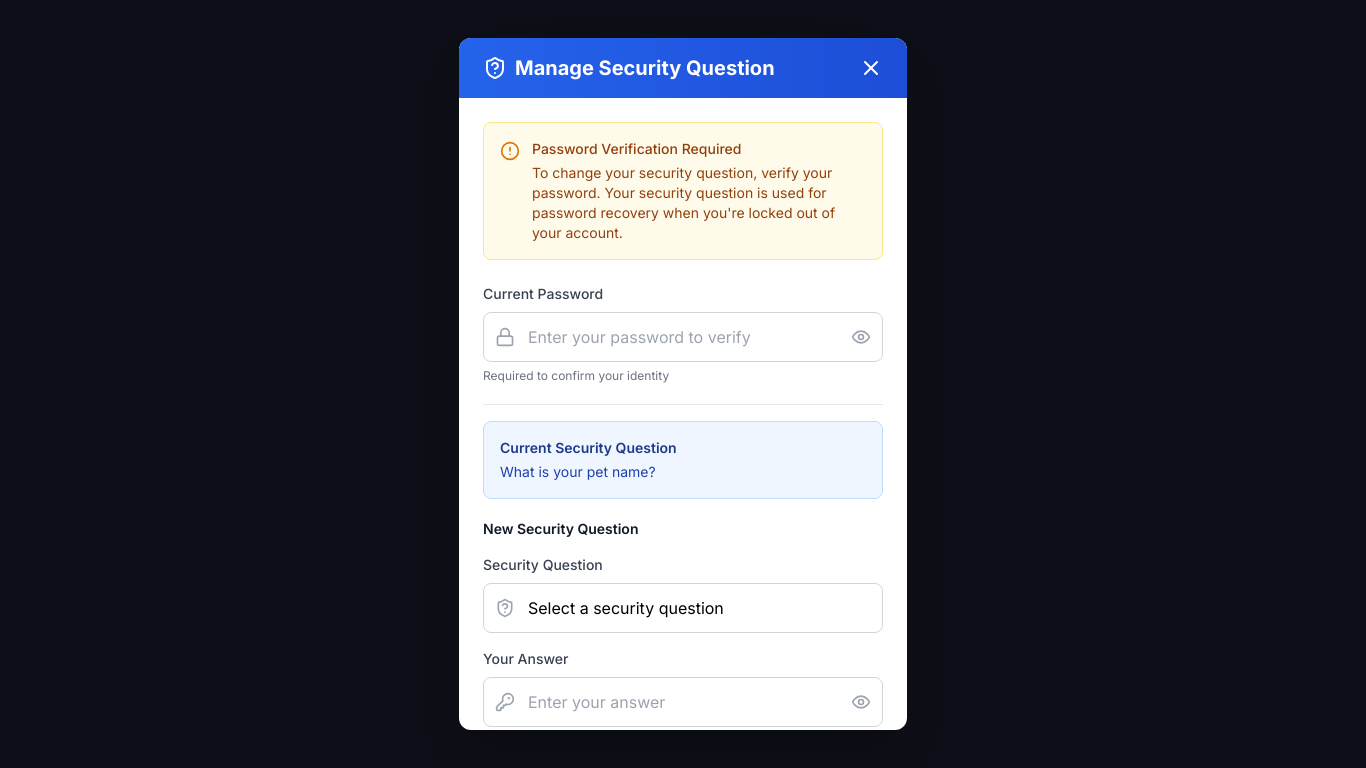
SecurityQuestionModal › shows mismatch error when answers differ
In the password field with placeholder "Enter your password to verify": x=683, y=337 top-left (483, 312), bottom-right (883, 362), type "password"
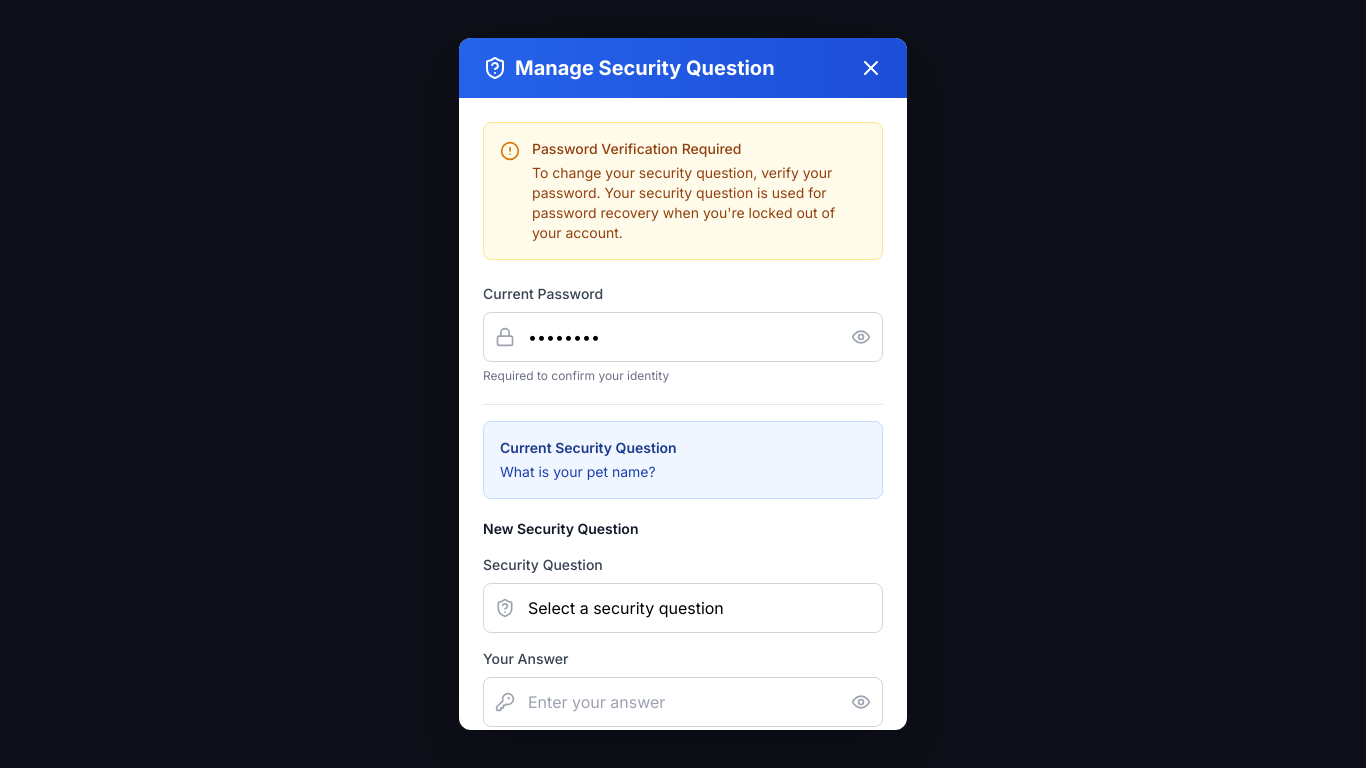
Select "What city were you born in?" in the dropdown: x=683, y=608 top-left (483, 583), bottom-right (883, 633)
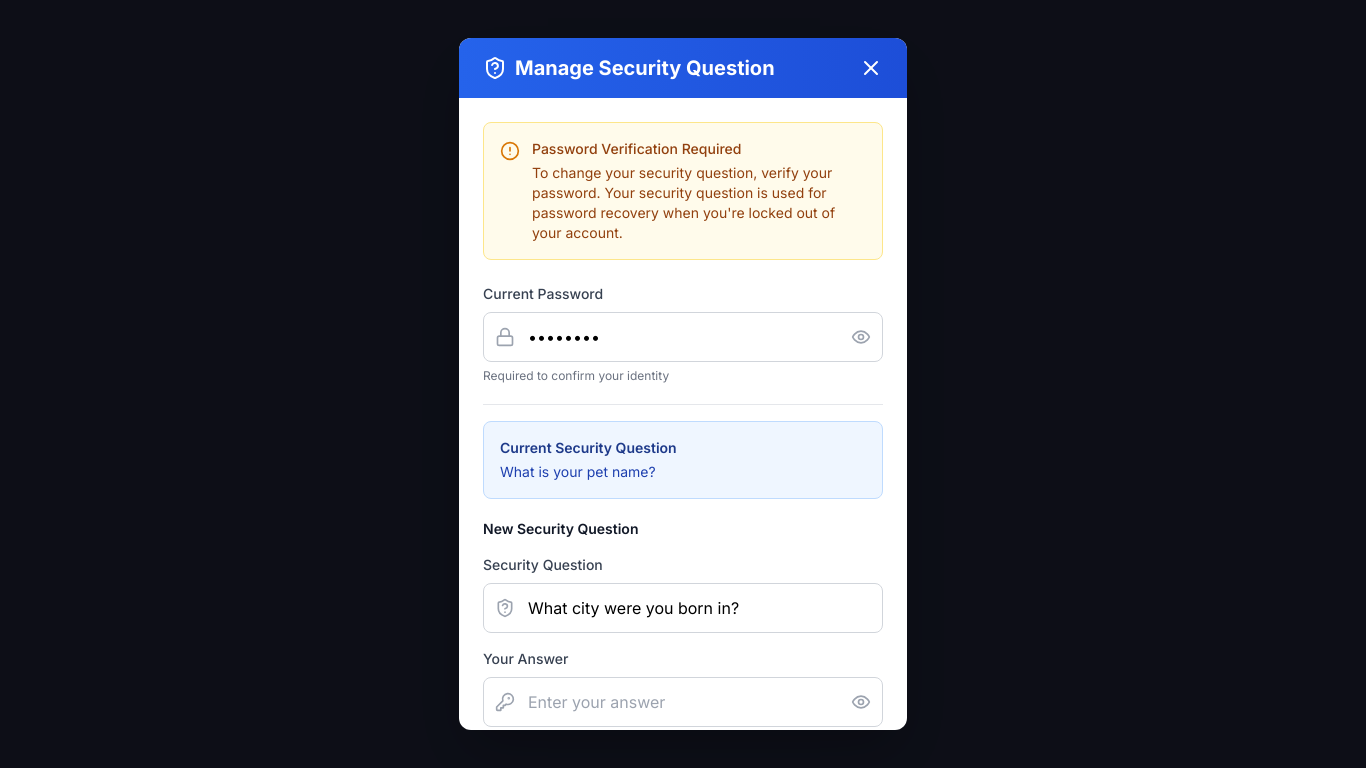
In the password field with placeholder "Enter your answer": x=683, y=702 top-left (483, 677), bottom-right (883, 727), type "London"
(page scrolled)
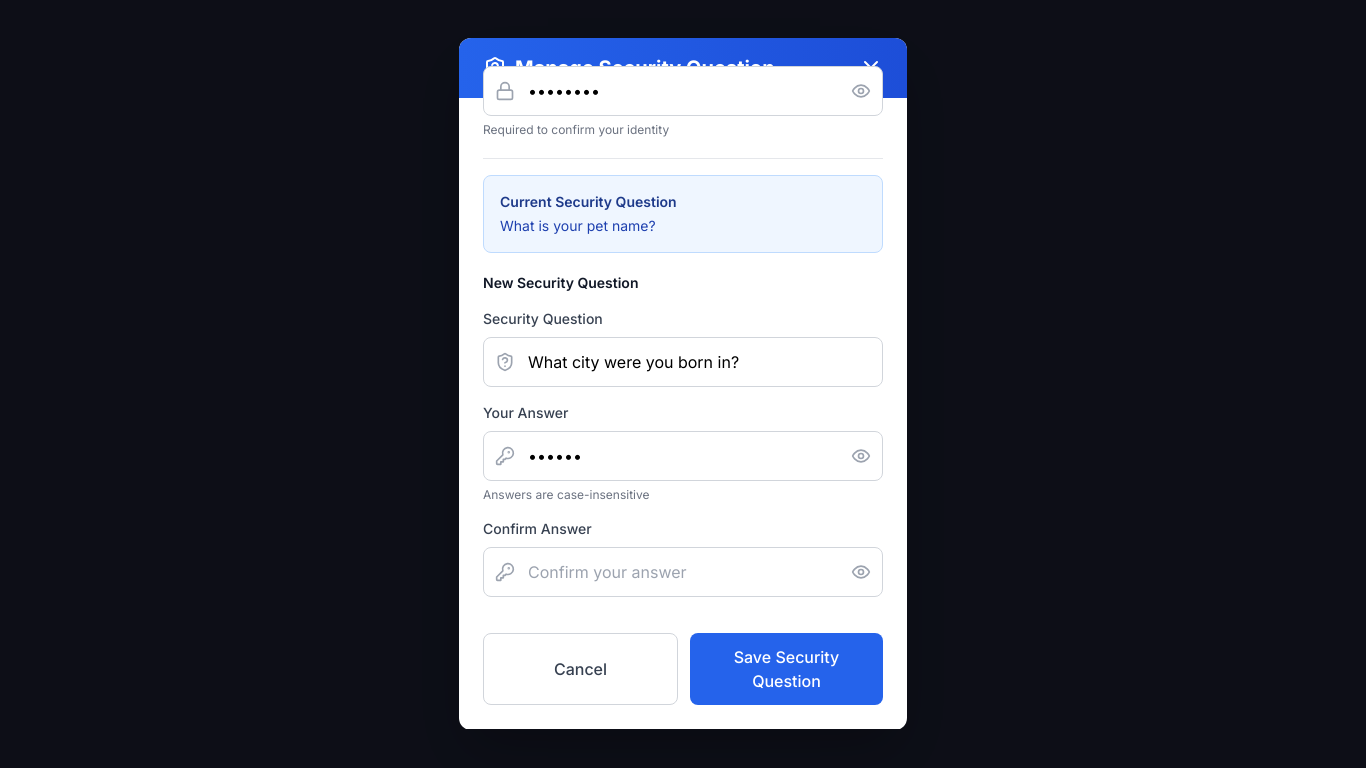
In the password field with placeholder "Confirm your answer": x=683, y=572 top-left (483, 547), bottom-right (883, 597), type "Paris"
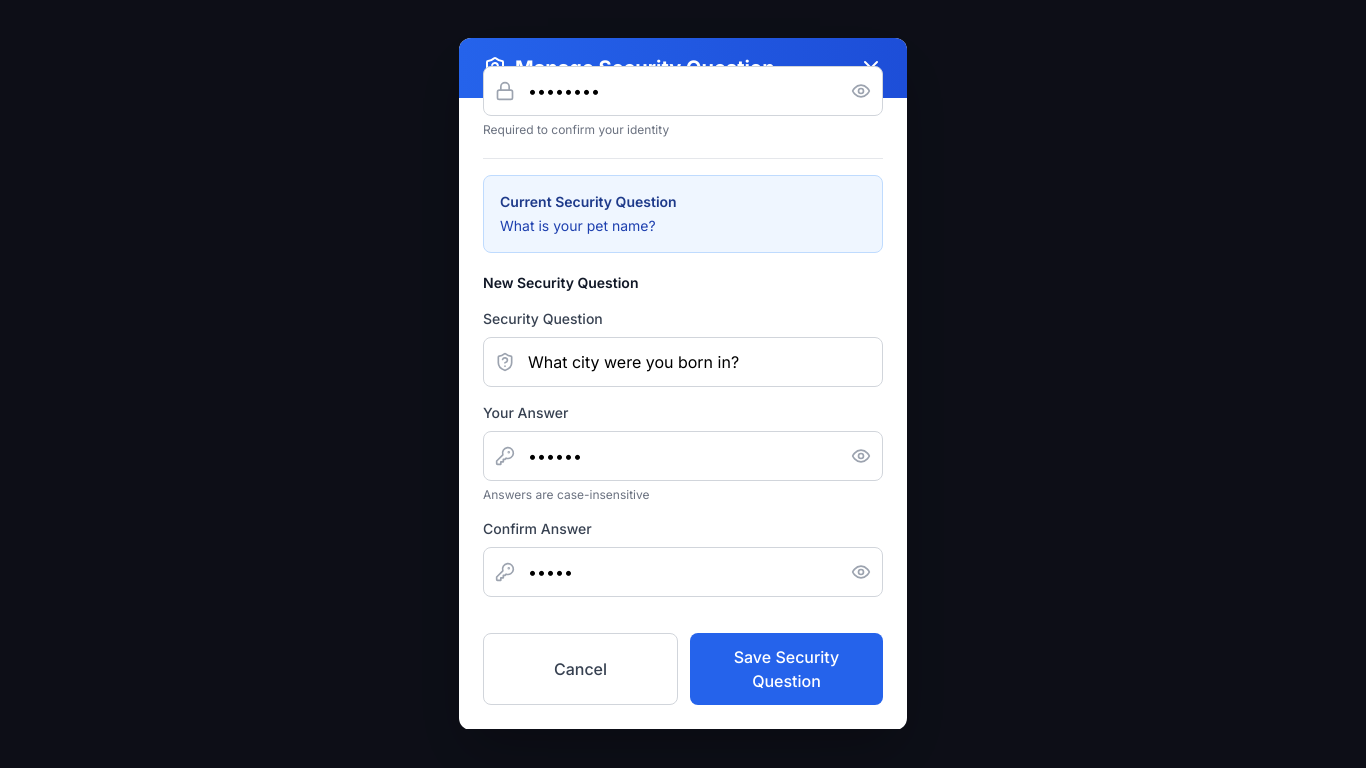
Submit the form, box top-left (483, 38), bottom-right (883, 705)
(page scrolled)
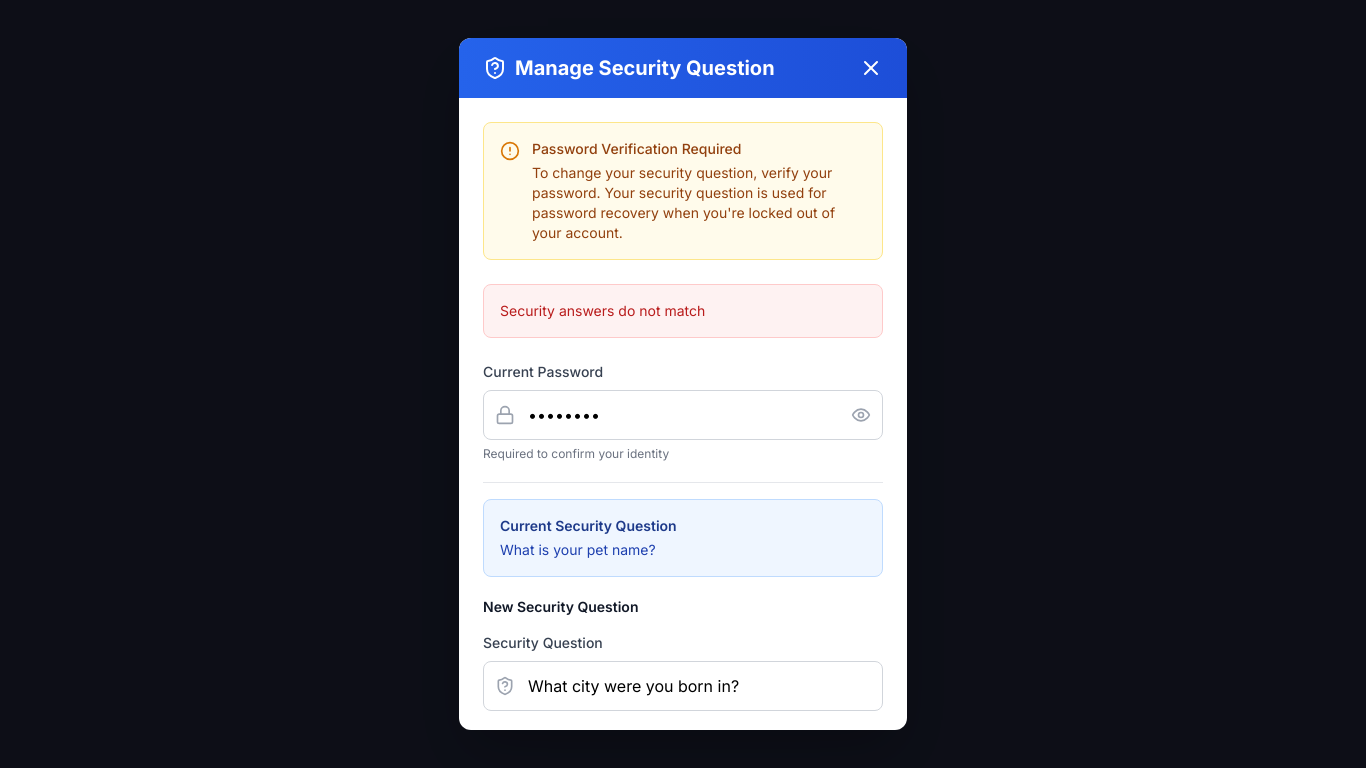
expect the text "Security answers do not match" is shown: met, box top-left (483, 284), bottom-right (883, 338)
